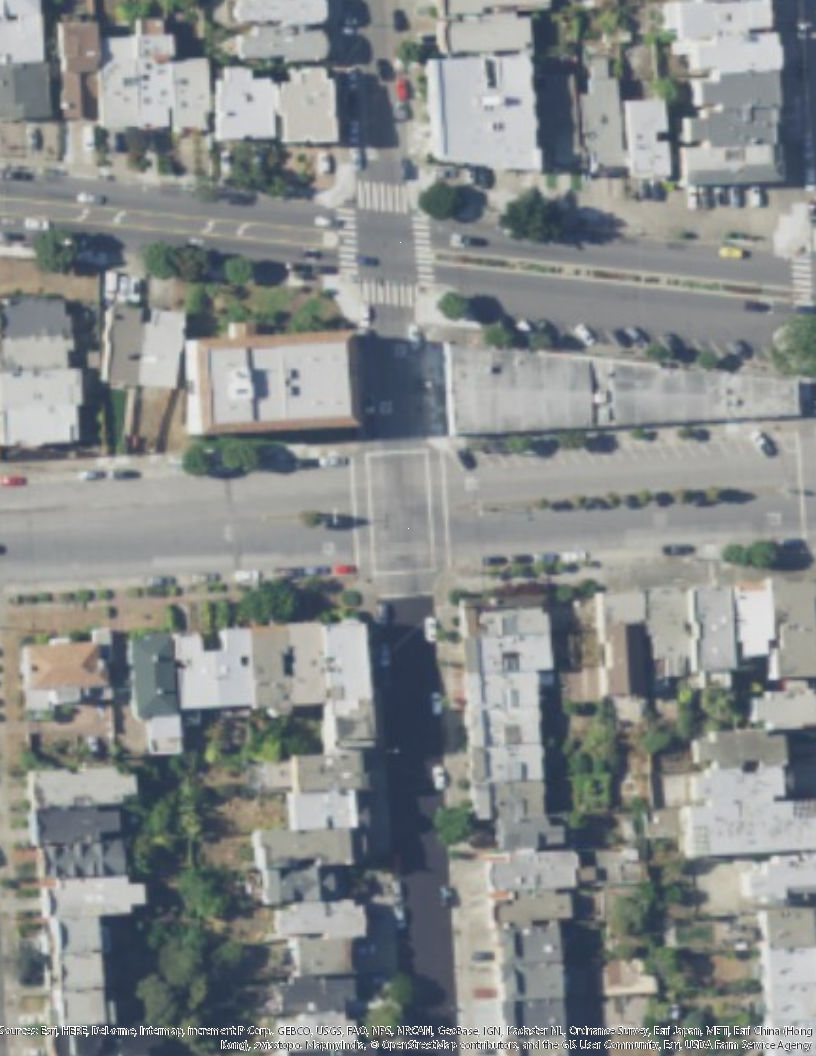zebracross: (356, 179, 412, 214), (409, 219, 436, 291), (361, 278, 417, 310), (335, 207, 359, 279), (789, 253, 815, 307)
